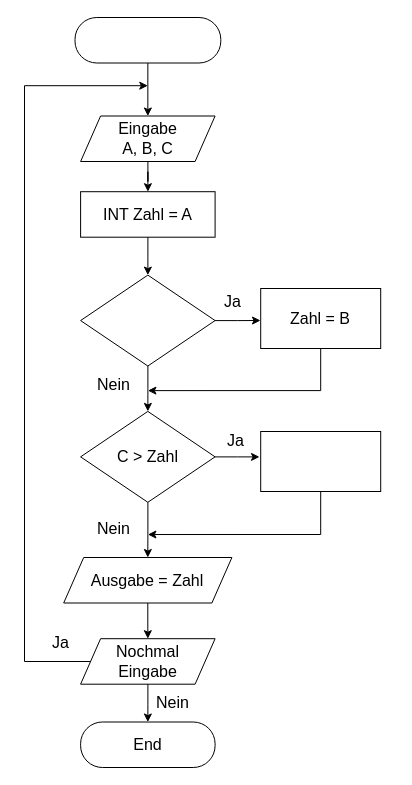
Image size: 412x785. Some labels were removed from this diagram. Each missing label, with the box of its shape:
B > Zahl: (80, 274, 215, 366)
Start: (74, 16, 221, 63)
Zahl = C: (260, 430, 381, 492)
